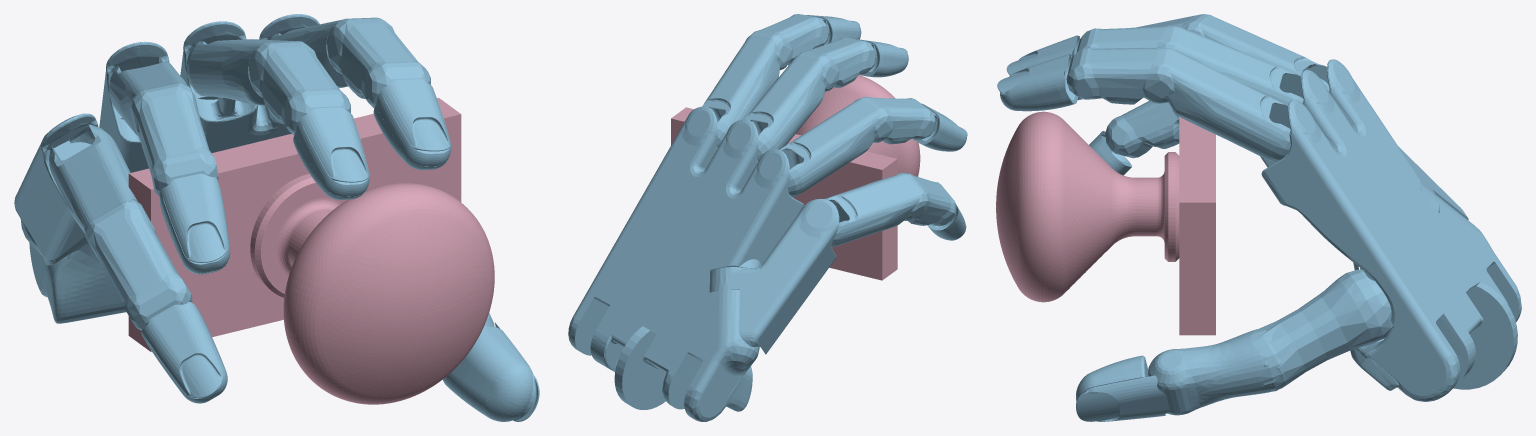
3 views of the same model, side by side, from view 1: azimuth 30°, elevation 25°; view 2: azimuth 150°, elevation 25°; view 3: azimuth 270°, elevation 25° (orthographic). The views are drawn at different scales.
Parts seen in each view (by area): view 1: world, door_knob.stl; view 2: world, door_knob.stl; view 3: world, door_knob.stl.
Part boxes in pixels (x1,y1,x2,y2): world: (14, 14, 539, 421); door_knob.stl: (128, 98, 494, 404); world: (568, 14, 967, 421); door_knob.stl: (671, 75, 920, 280); world: (997, 14, 1521, 421); door_knob.stl: (996, 111, 1215, 335).
Size of the model in its own units: 0.126 by 0.1275 by 0.1794.
